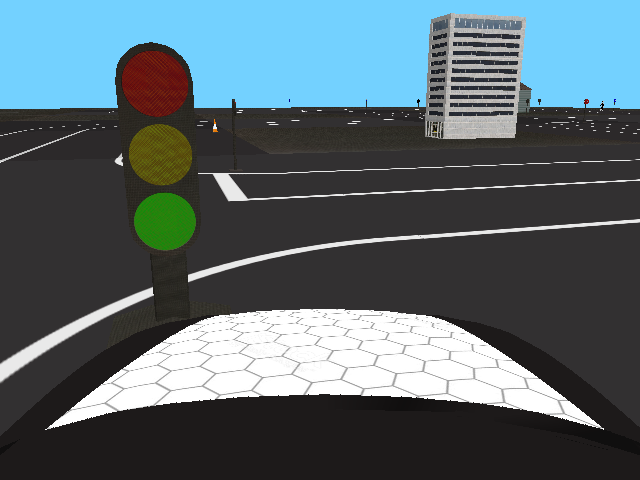red_light: (114, 41, 202, 256)
